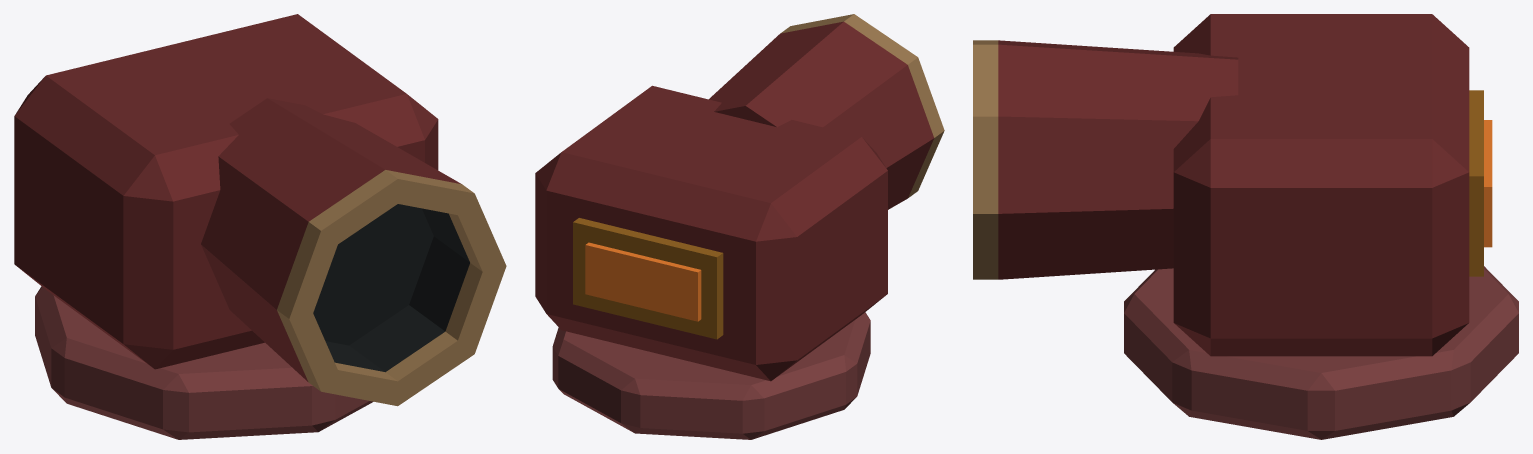
Rendered from fire_lvl_1.glb.
3 renders of one model, left to right at view 1: azimuth 30°, elevation 25°; view 2: azimuth 150°, elevation 25°; view 3: azimuth 270°, elevation 25°, orthographic. The views are drawn at different scales.
Visible parts, largest first — view 1: FireHousing, FireNozzle, FireBase; view 2: FireHousing, FireBase, FireNozzle, HeatWindowFrame, HeatWindow; view 3: FireHousing, FireNozzle, FireBase, HeatWindowFrame, HeatWindow.
Boxes of the visible parts, x1=… form: FireHousing: x1=14, y1=14, x2=438, y2=369; FireNozzle: x1=201, y1=98, x2=506, y2=406; FireBase: x1=35, y1=286, x2=373, y2=439; FireHousing: x1=535, y1=85, x2=887, y2=381; FireBase: x1=552, y1=312, x2=870, y2=439; FireNozzle: x1=709, y1=14, x2=944, y2=209; HeatWindowFrame: x1=573, y1=218, x2=723, y2=339; HeatWindow: x1=585, y1=242, x2=701, y2=321; FireHousing: x1=1173, y1=14, x2=1469, y2=356; FireNozzle: x1=973, y1=40, x2=1238, y2=279; FireBase: x1=1124, y1=266, x2=1518, y2=439; HeatWindowFrame: x1=1469, y1=90, x2=1483, y2=276; HeatWindow: x1=1484, y1=120, x2=1492, y2=247.
Size of the model in its own units: 1.07 by 0.945 by 1.48.
